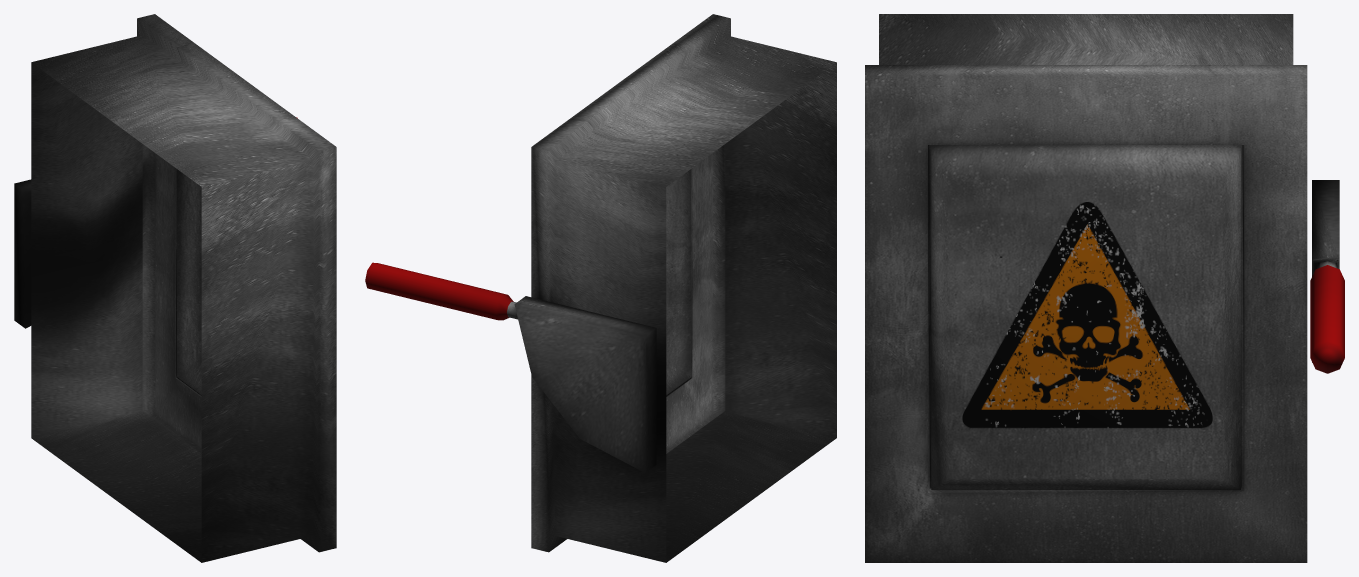
Rendered from electricity_box.fbx.
The picture shows the model from 3 angles, left to right: view 1: azimuth 30°, elevation 25°; view 2: azimuth 150°, elevation 25°; view 3: azimuth 270°, elevation 25°; orthographic projection. The views are drawn at different scales.
Parts seen in each view (by area): view 1: polySurface4; view 2: polySurface4, polySurface5; view 3: polySurface4, polySurface5.
Boxes of the visible parts, left/top/right/bottom form: polySurface4: left=14, top=14, right=336, bottom=562; polySurface4: left=514, top=14, right=836, bottom=562; polySurface5: left=365, top=262, right=517, bottom=320; polySurface4: left=865, top=14, right=1339, bottom=562; polySurface5: left=1310, top=261, right=1344, bottom=373.
Size of the model in its own units: 8.4 by 11.5 by 10.26.
